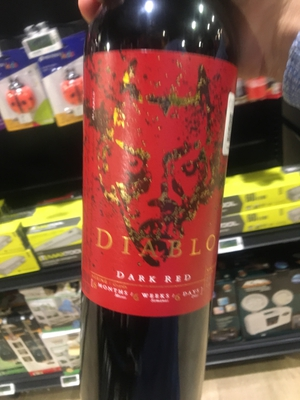diablo dark red: (78, 1, 254, 385)
